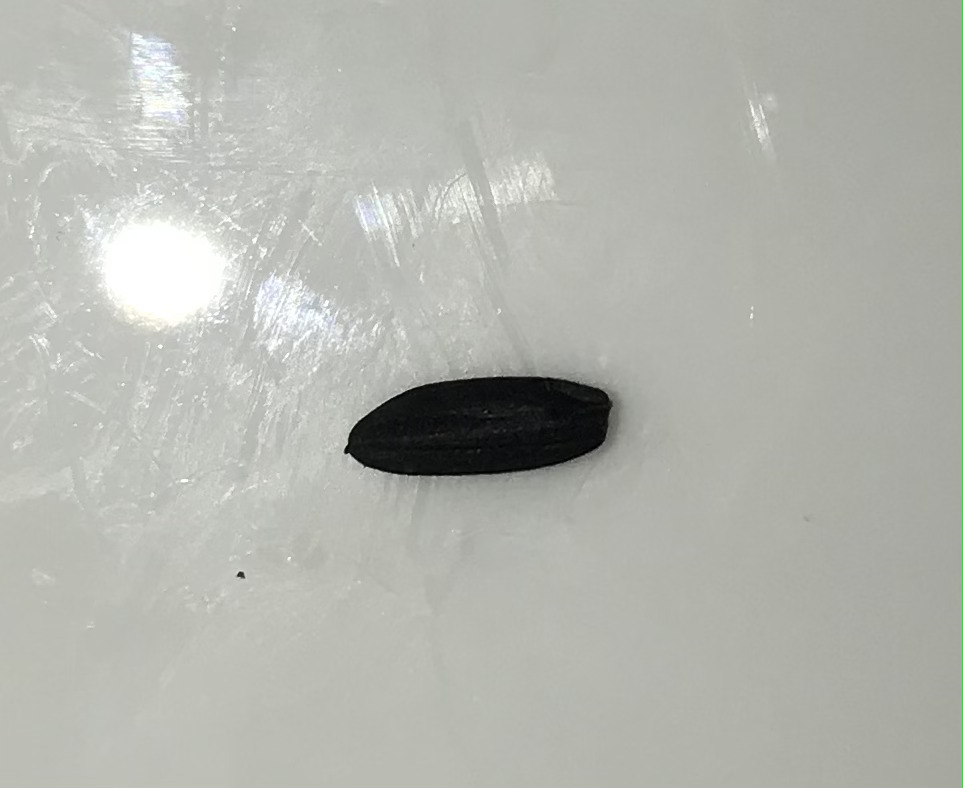Gao lut: (349, 373, 614, 472)
